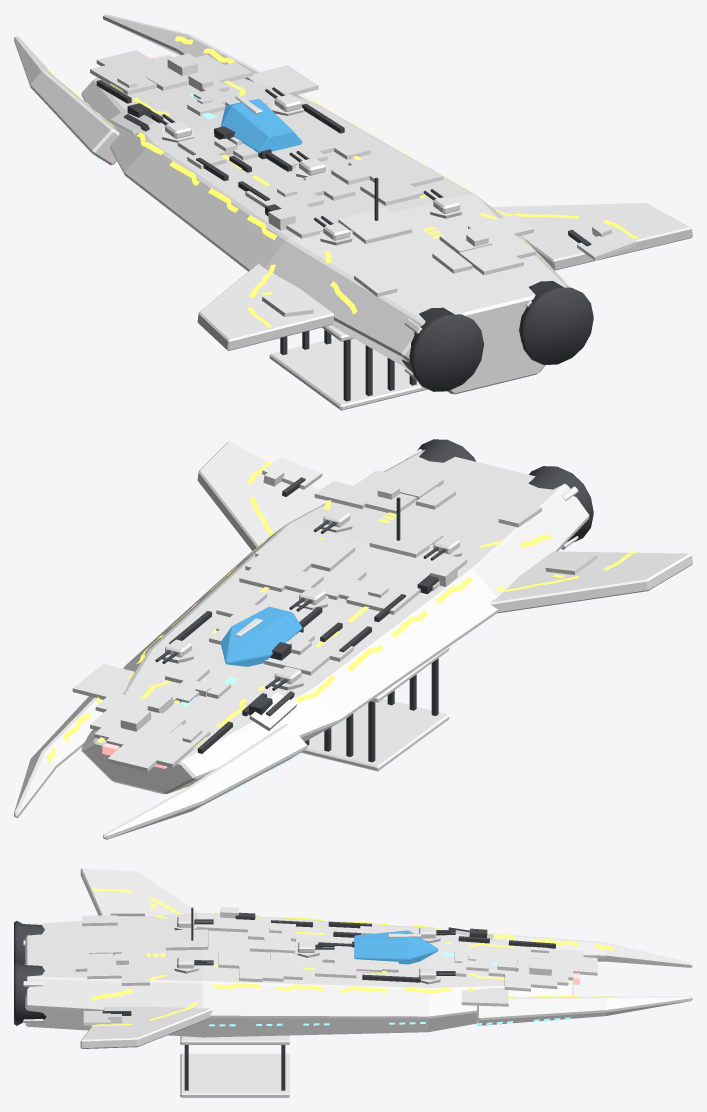
File: gonchaya.glb
3 renders of one model, top to bottom at view 1: azimuth 30°, elevation 25°; view 2: azimuth 150°, elevation 25°; view 3: azimuth 270°, elevation 25°, orthographic. The views are drawn at different scales.
Visible parts, largest first — view 1: Корпус, Накладные_плиты, Крыло, Крыло.001, Рама_клетки, Кожух_дюзы.001, Кожух_дюзы, Жвало.001, Разметка, Механика, Кабина, Жвало; view 2: Корпус, Накладные_плиты, Крыло.001, Крыло, Рама_клетки, Жвало.001, Разметка, Механика, Кабина, Жвало, Кожух_дюзы.001, Кожух_дюзы; view 3: Корпус, Накладные_плиты, Рама_клетки, Жвало, Крыло, Крыло.001, Разметка, Кабина, Механика, Жвало.001, Кожух_дюзы, Рама_клетки.001 (+2 smaller).
Boxes of the visible parts, bbox=[...] form: Корпус: bbox=[81, 77, 567, 394]; Накладные_плиты: bbox=[90, 50, 636, 316]; Крыло: bbox=[492, 203, 692, 270]; Крыло.001: bbox=[197, 263, 334, 350]; Рама_клетки: bbox=[269, 338, 427, 410]; Кожух_дюзы.001: bbox=[402, 307, 483, 391]; Кожух_дюзы: bbox=[519, 281, 593, 364]; Жвало.001: bbox=[14, 36, 119, 165]; Разметка: bbox=[47, 36, 638, 327]; Механика: bbox=[96, 80, 591, 246]; Кабина: bbox=[220, 99, 302, 153]; Жвало: bbox=[103, 14, 307, 100]; Корпус: bbox=[81, 450, 589, 794]; Накладные_плиты: bbox=[72, 457, 597, 771]; Крыло.001: bbox=[490, 551, 692, 613]; Крыло: bbox=[197, 441, 325, 550]; Рама_клетки: bbox=[301, 698, 449, 771]; Жвало.001: bbox=[103, 724, 307, 839]; Разметка: bbox=[46, 461, 638, 792]; Механика: bbox=[169, 477, 438, 753]; Кабина: bbox=[220, 606, 302, 666]; Жвало: bbox=[14, 696, 103, 817]; Кожух_дюзы.001: bbox=[528, 466, 593, 541]; Кожух_дюзы: bbox=[417, 439, 476, 462]; Корпус: bbox=[25, 913, 573, 1037]; Накладные_плиты: bbox=[75, 900, 597, 1025]; Рама_клетки: bbox=[180, 1053, 289, 1097]; Жвало: bbox=[477, 996, 692, 1025]; Крыло: bbox=[80, 1006, 212, 1048]; Крыло.001: bbox=[80, 868, 198, 918]; Разметка: bbox=[91, 887, 613, 1026]; Кабина: bbox=[354, 930, 438, 964]; Механика: bbox=[102, 907, 555, 1015]; Жвало.001: bbox=[489, 933, 692, 967]; Кожух_дюзы: bbox=[14, 961, 46, 1025]; Рама_клетки.001: bbox=[180, 1035, 289, 1044].
Bounding box in the file's own units: 1.27 × 0.5667 × 2.11.
